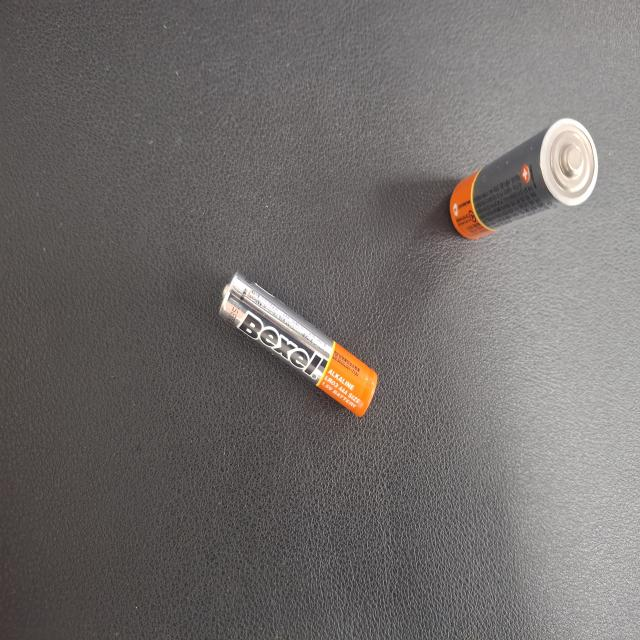AA: (87, 55, 178, 254)
AAA: (205, 349, 318, 562)
